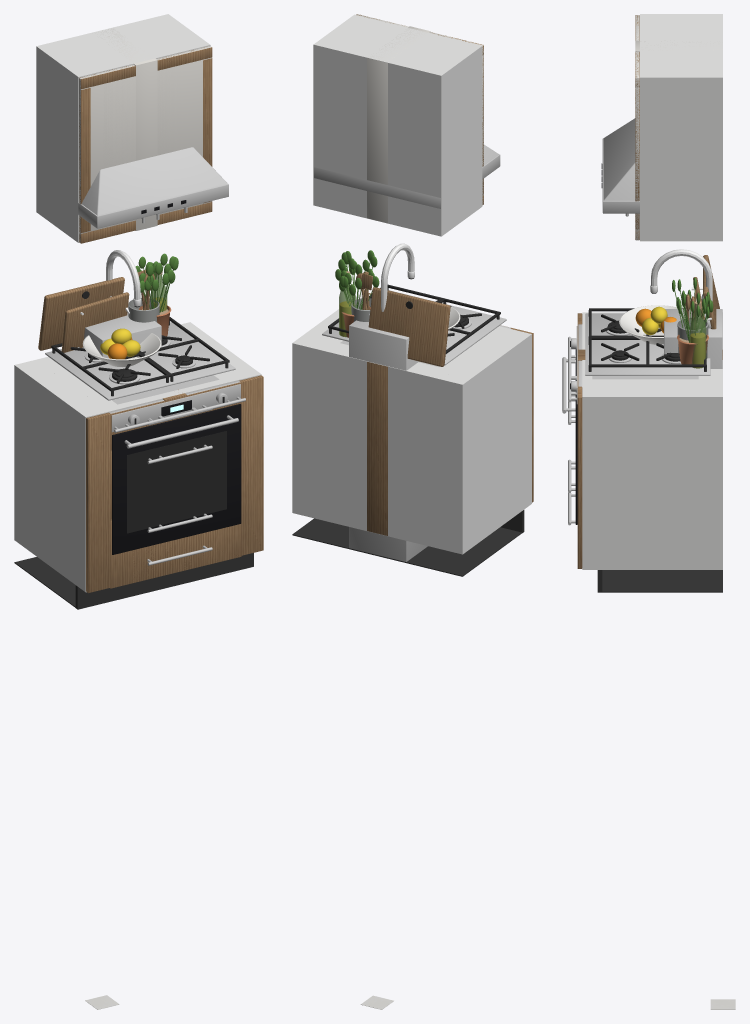
Rendered from cocina-kit.gltf.
The picture shows the model from 3 angles, left to right: view 1: azimuth 30°, elevation 25°; view 2: azimuth 150°, elevation 25°; view 3: azimuth 270°, elevation 25°; orthographic projection. The views are drawn at different scales.
Visible parts, largest first — view 1: B_sink_80__k_carcasa, B_oven_60__k_hierro, W_door2_60__k_laca_blanca, B_sink_80__k_roble, W_glass2_60__k_carcasa, B_oven_60__k_vidrio_negro, H_hood_60__k_acero, B_oven_60__k_acero, W_door2_60__k_carcasa, W_glass2_60__k_roble, D_set1__k_roble, B_drw3_60__k_roble (+14 smaller); view 2: B_sink_80__k_carcasa, W_door2_60__k_carcasa, B_door2_60__k_carcasa, W_glass2_60__k_carcasa, W_door1_40__k_carcasa, D_set1__k_roble, H_chimney__k_acero, F_base_10__k_roble, F_wall_10__k_laca_blanca, B_drw3_40__k_carcasa, B_sink_80__k_zocalo, H_hood_60__k_acero (+6 smaller); view 3: B_sink_80__k_carcasa, W_glass2_60__k_carcasa, W_door2_60__k_carcasa, B_oven_60__k_acero, H_hood_60__k_acero, W_door1_40__k_carcasa, B_oven_60__k_hierro, B_sink_80__k_zocalo, B_door2_60__k_carcasa, H_chimney__k_acero, B_sink_80__k_roble, D_set2__k_hoja (+12 smaller).
Boxes of the visible parts, x1,y1,x2,y2 form: B_sink_80__k_carcasa: (14, 322, 261, 592); B_oven_60__k_hierro: (51, 317, 229, 533); W_door2_60__k_laca_blanca: (79, 46, 212, 243); B_sink_80__k_roble: (86, 375, 263, 592); W_glass2_60__k_carcasa: (36, 14, 210, 242); B_oven_60__k_vidrio_negro: (112, 400, 241, 554); H_hood_60__k_acero: (78, 147, 228, 228); B_oven_60__k_acero: (45, 322, 240, 565); W_door2_60__k_carcasa: (37, 14, 210, 238); W_glass2_60__k_roble: (79, 47, 212, 243); D_set1__k_roble: (38, 270, 154, 352); B_drw3_60__k_roble: (110, 380, 241, 588); B_sink_80__k_carcasa: (292, 292, 531, 554); W_door2_60__k_carcasa: (313, 14, 481, 236); B_door2_60__k_carcasa: (313, 326, 509, 549); W_glass2_60__k_carcasa: (313, 15, 482, 236); W_door1_40__k_carcasa: (335, 20, 460, 231); D_set1__k_roble: (356, 271, 450, 366); H_chimney__k_acero: (349, 320, 427, 561); F_base_10__k_roble: (367, 361, 387, 535); F_wall_10__k_laca_blanca: (367, 26, 430, 223); B_drw3_40__k_carcasa: (335, 345, 419, 542); B_sink_80__k_zocalo: (292, 510, 524, 576); H_hood_60__k_acero: (314, 144, 500, 208); B_sink_80__k_carcasa: (582, 312, 722, 569); W_glass2_60__k_carcasa: (640, 14, 722, 241); W_door2_60__k_carcasa: (640, 14, 722, 77); B_oven_60__k_acero: (562, 313, 710, 525); H_hood_60__k_acero: (602, 118, 639, 213); W_door1_40__k_carcasa: (640, 24, 722, 66); B_oven_60__k_hierro: (570, 308, 706, 389); B_sink_80__k_zocalo: (597, 570, 722, 592); B_door2_60__k_carcasa: (582, 323, 722, 386); H_chimney__k_acero: (664, 309, 722, 368); B_sink_80__k_roble: (577, 313, 582, 568); D_set2__k_hoja: (672, 277, 713, 342).
Size of the model in its own units: 0.8 by 4.22 by 0.691.
Materials: 22 (2 with a texture image).
